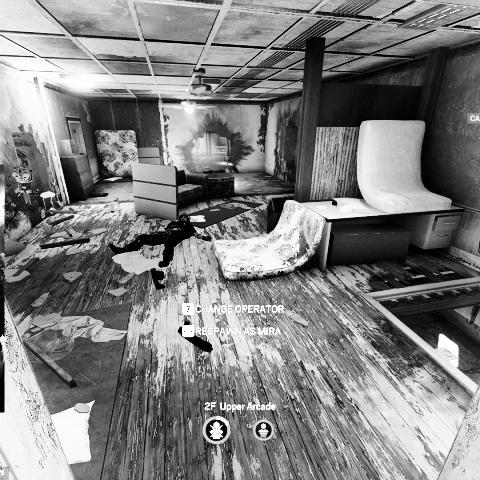Character: (108, 213, 214, 268)
Head: (178, 214, 190, 222)
